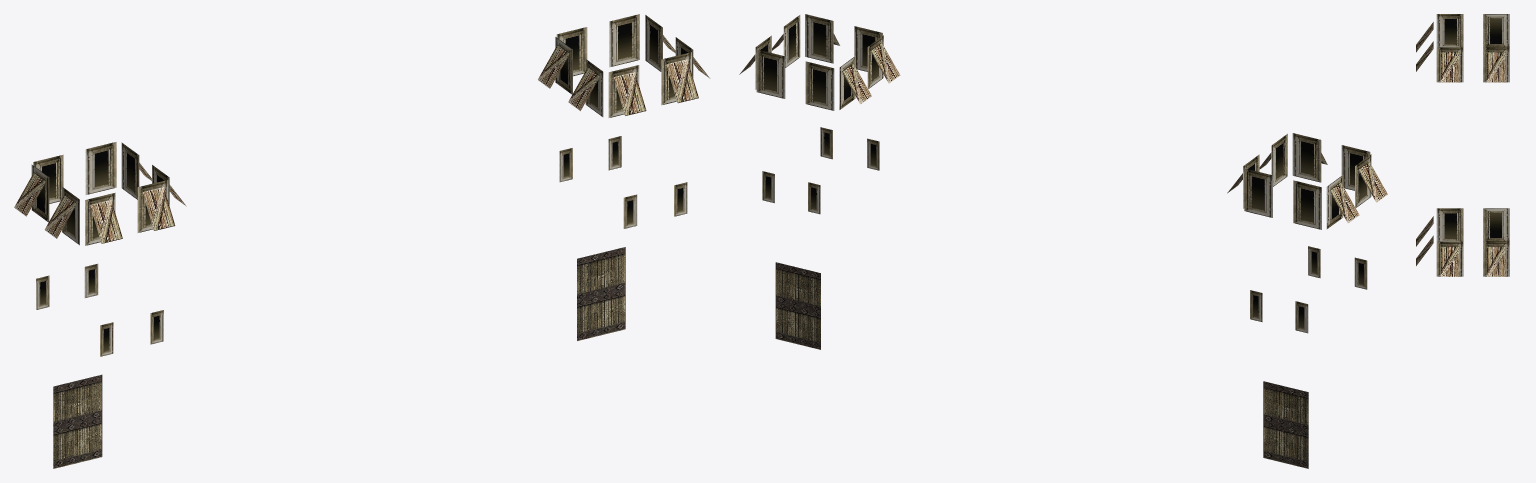
The model's file is hele_gate_props.dae.
3 views of the same model, side by side, from view 1: azimuth 30°, elevation 25°; view 2: azimuth 150°, elevation 25°; view 3: azimuth 270°, elevation 25° (orthographic). The views are drawn at different scales.
Visible parts, largest first — view 1: Mesh_06-Pivot; view 2: Mesh_06-Pivot; view 3: Mesh_06-Pivot.
Part boxes in pixels (x1,y1,x2,y2): Mesh_06-Pivot: [14, 14, 710, 468]; Mesh_06-Pivot: [739, 14, 1387, 468]; Mesh_06-Pivot: [1416, 14, 1509, 276].
Size of the model in its own units: 37.4 by 6.9 by 16.88.
